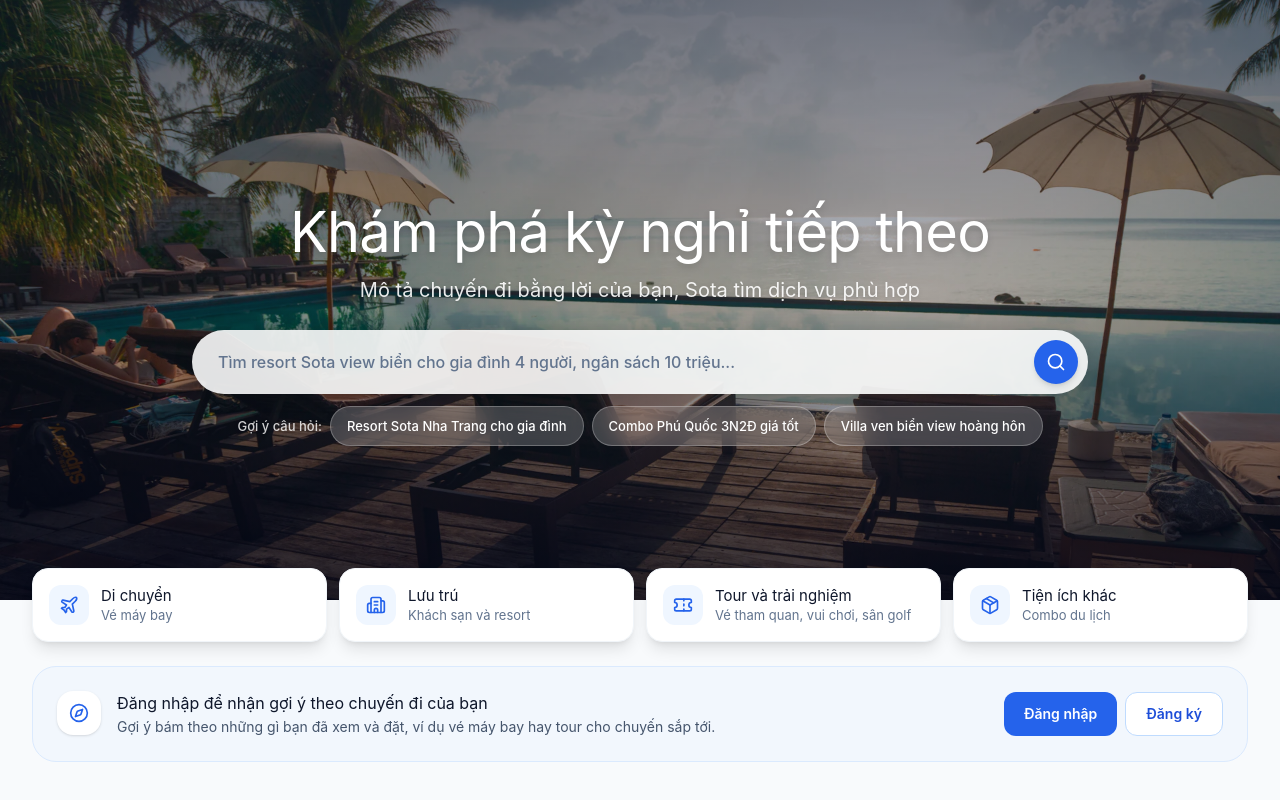
Test: HomeView › instant search (FR-SRC-05) › typing shows suggestions by kind without pressing Enter; a product opens its detail page
This screenshot has width=1280, height=800.
Step 1. Replace the text in the dropdown named "Mô tả chuyến đi bạn muốn" with "Ha" → coordinates (614, 362), box left=202, top=350, right=1026, bottom=374
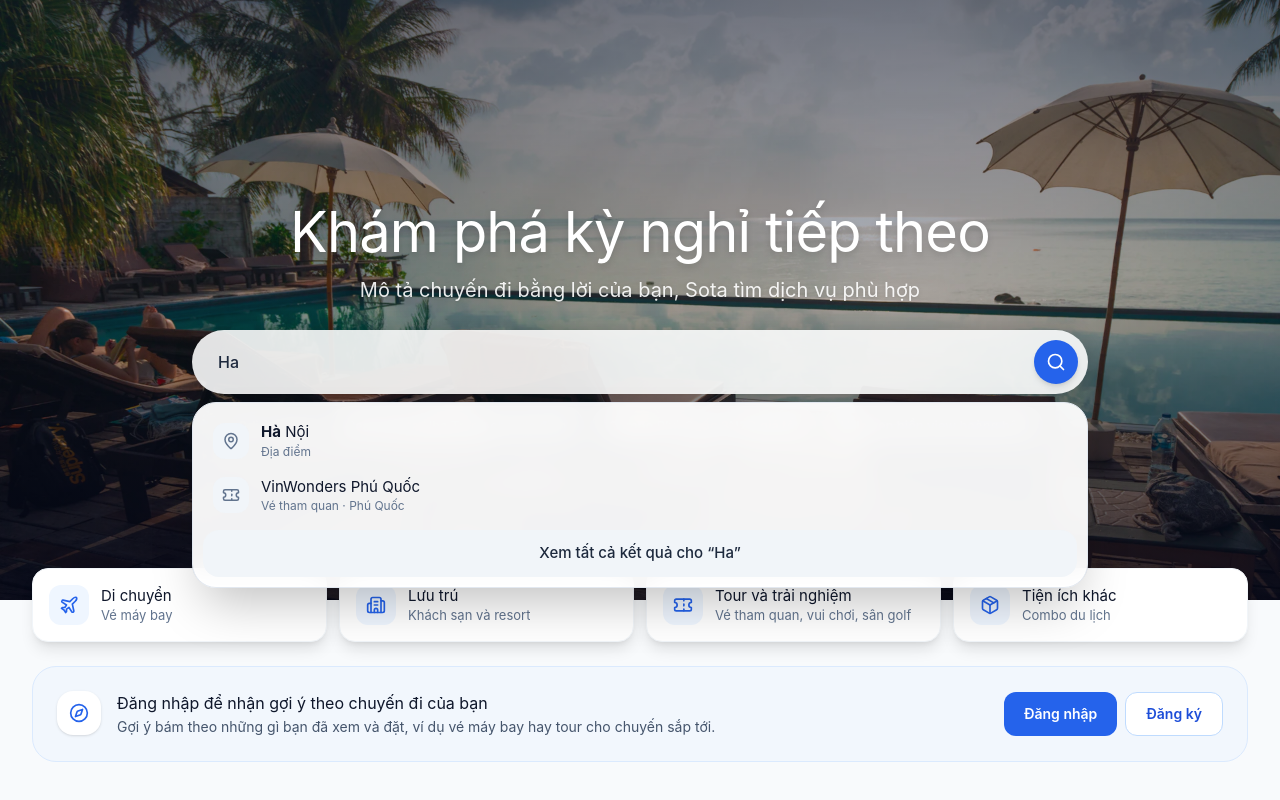
Now the option "Hà Nội Địa điểm" is shown, box left=203, top=413, right=1077, bottom=468
Now the button "Xem tất cả kết quả cho “Ha”" is shown, box left=203, top=530, right=1077, bottom=577
Step 2. Click the option "VinWonders Phú Quốc Vé tham quan · Phú Quốc" → coordinates (231, 495), box left=203, top=468, right=1077, bottom=522
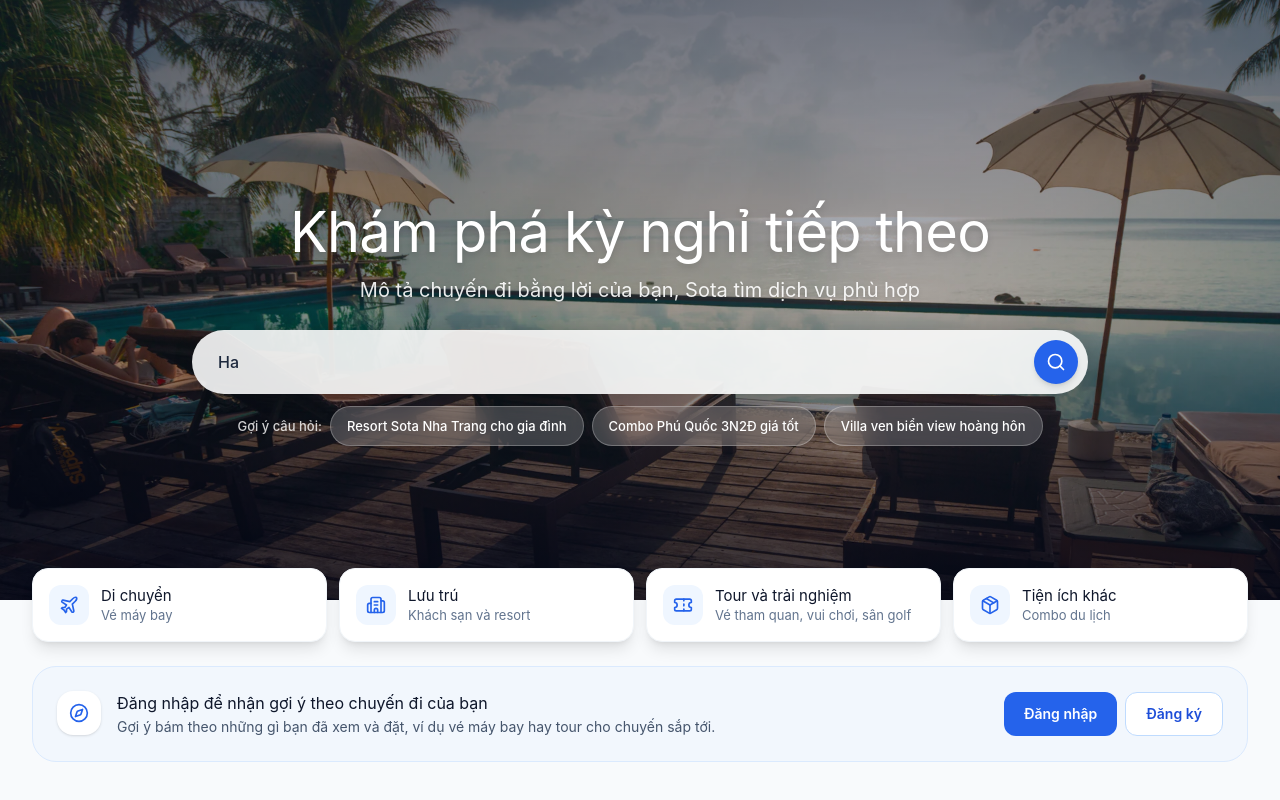
Now the list "Hà Nội Địa điểm VinWonders Phú Quốc Vé tham quan · Phú Quốc" is gone
